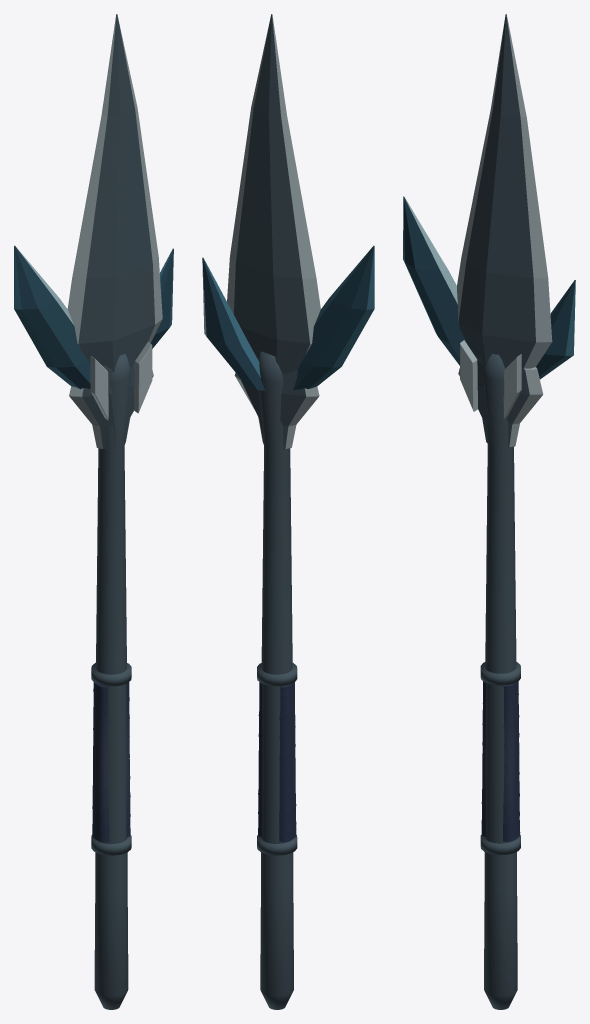
File: icespear.glb
The picture shows the model from 3 angles, left to right: view 1: azimuth 30°, elevation 25°; view 2: azimuth 150°, elevation 25°; view 3: azimuth 330°, elevation 25°; orthographic projection.
Visible parts, largest first — view 1: icespear_Baked.001 export; view 2: icespear_Baked.001 export; view 3: icespear_Baked.001 export.
Boxes of the visible parts, x1,y1,x2,y2 form: icespear_Baked.001 export: [14, 14, 173, 1009]; icespear_Baked.001 export: [202, 14, 374, 1009]; icespear_Baked.001 export: [403, 14, 575, 1009].
Bounding box in the file's own units: 0.2486 × 1.42 × 0.0634.
Materials: 1 (1 with a texture image).
